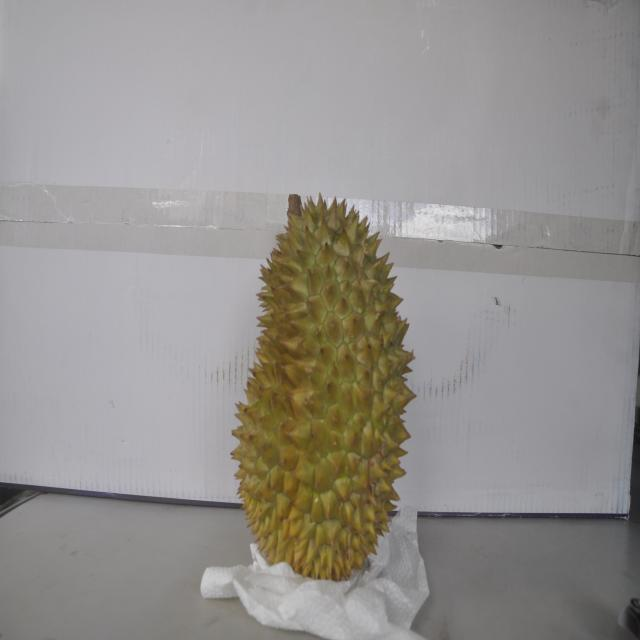mature: (229, 191, 415, 578)
